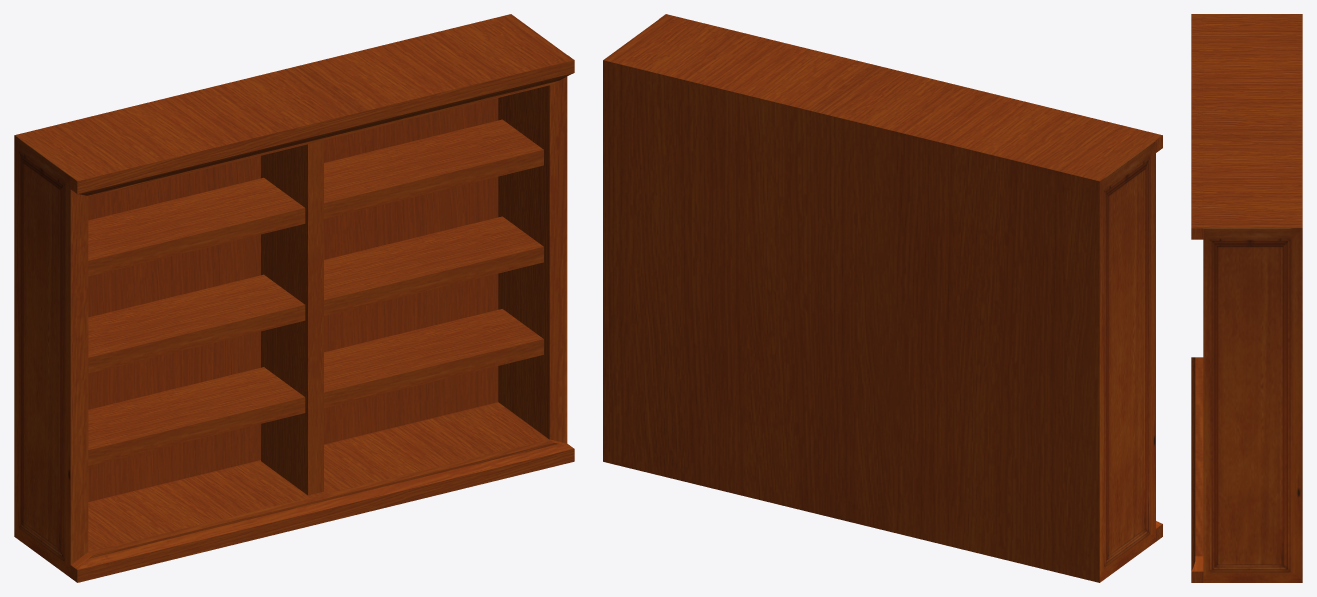
File: Bookcase (1).fbx
3 views of the same model, side by side, from view 1: azimuth 30°, elevation 25°; view 2: azimuth 150°, elevation 25°; view 3: azimuth 270°, elevation 25° (orthographic). The views are drawn at different scales.
Parts seen in each view (by area): view 1: polySurface29; view 2: polySurface29; view 3: polySurface29.
Part boxes in pixels (left/top/right/bottom): polySurface29: left=14, top=14, right=574, bottom=582; polySurface29: left=603, top=14, right=1162, bottom=582; polySurface29: left=1191, top=14, right=1302, bottom=582.
Bounding box in the file's own units: 8.99 × 6.94 × 1.98.
